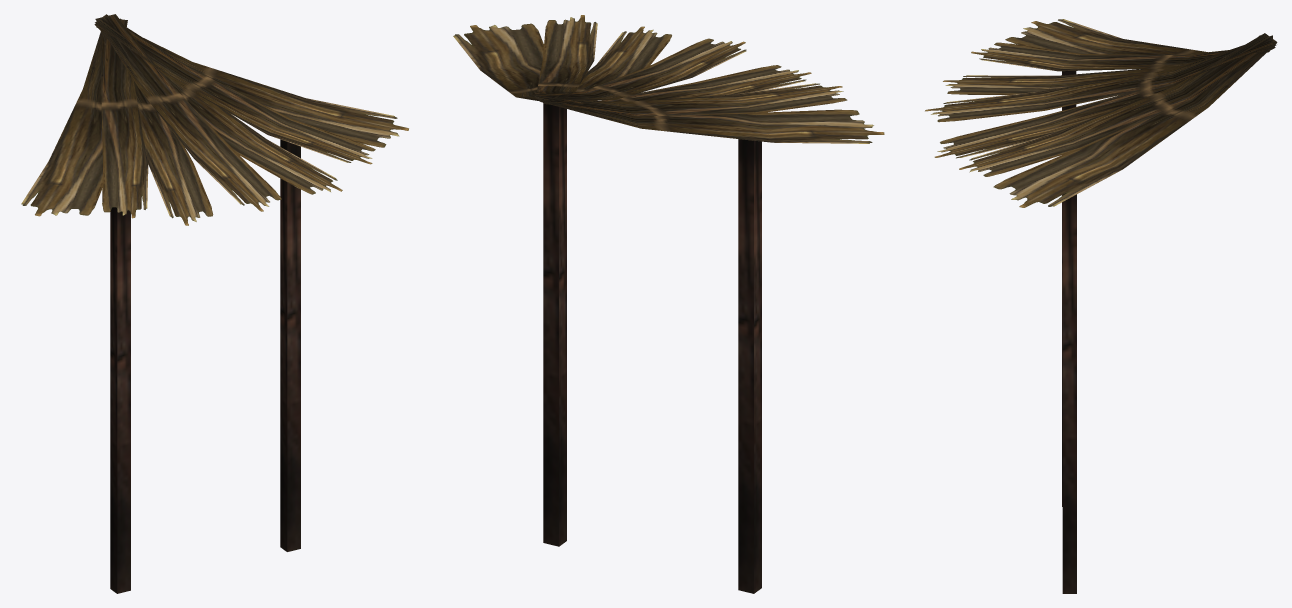
3 renders of one model, left to right at view 1: azimuth 30°, elevation 25°; view 2: azimuth 150°, elevation 25°; view 3: azimuth 270°, elevation 25°, orthographic. The views are drawn at different scales.
Visible parts, largest first — view 1: wj09; view 2: wj09; view 3: wj09.
Boxes of the visible parts, <box> form: wj09: <box>21,14,408,593</box>; wj09: <box>453,15,884,593</box>; wj09: <box>925,19,1277,593</box>.
Bounding box in the file's own units: 572 × 662 × 422.
